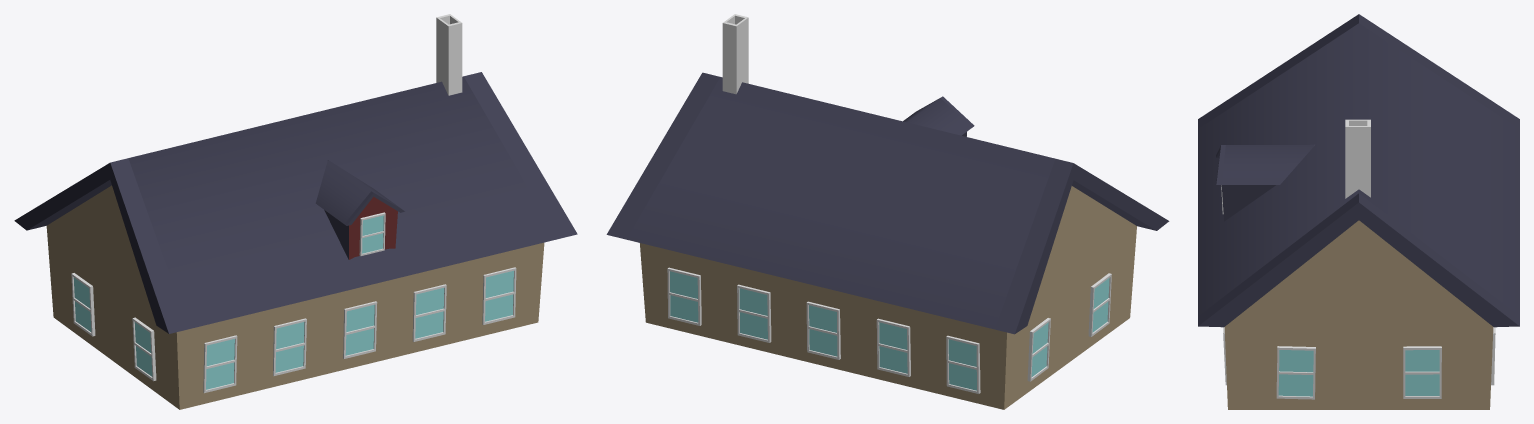
The model's file is Building11top.fbx.
3 renders of one model, left to right at view 1: azimuth 30°, elevation 25°; view 2: azimuth 150°, elevation 25°; view 3: azimuth 270°, elevation 25°, orthographic. The views are drawn at different scales.
Parts seen in each view (by area): view 1: polySurface131; view 2: polySurface131; view 3: polySurface131.
Part boxes in pixels (left/top/right/bottom): polySurface131: left=14, top=14, right=577, bottom=409; polySurface131: left=606, top=14, right=1169, bottom=409; polySurface131: left=1198, top=14, right=1519, bottom=409.
Size of the model in its own units: 8.8 by 5.41 by 5.77.
